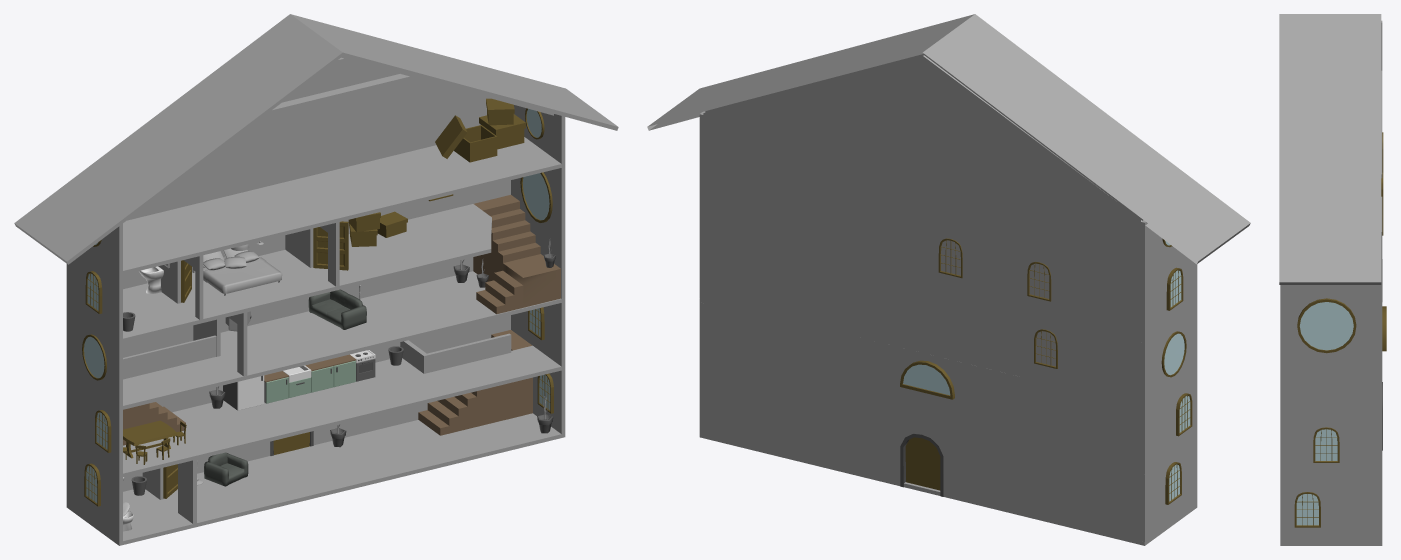
The model's file is House.fbx.
3 renders of one model, left to right at view 1: azimuth 30°, elevation 25°; view 2: azimuth 150°, elevation 25°; view 3: azimuth 270°, elevation 25°, orthographic. The views are drawn at different scales.
Visible parts, largest first — view 1: Roof3, BackWall, Floor4, GroundFloor, Floor1, Floor2, Floor3, LeftWall, RightWall, polySurface2, Stairs3, KitchenCabinets (+17 smaller); view 2: BackWall, Roof3, LeftWall, RightWall, Door, Round_Window4, GroundFloor, Round_Window1; view 3: Roof3, RightWall, Round_Window, Window9, Window8, GroundFloor, Floor4, Round_Window4.
Boxes of the visible parts, x1,y1,x2,y2 form: Roof3: (14,14,618,264); BackWall: (123,64,510,491); Floor4: (119,137,565,275); GroundFloor: (66,413,565,545); Floor1: (119,333,565,478); Floor2: (119,271,565,410); Floor3: (119,204,491,343); LeftWall: (66,223,122,543); RightWall: (511,105,565,434); polySurface2: (473,195,560,307); Stairs3: (418,330,532,435); KitchenCabinets: (264,350,375,403); BackWall: (703,54,1142,542); Roof3: (647,14,1250,264); LeftWall: (1141,220,1197,543); RightWall: (699,111,705,434); Door: (905,437,940,490); Round_Window4: (900,360,954,399); GroundFloor: (699,433,1197,545); Round_Window1: (1161,331,1186,377); Roof3: (1279,14,1381,284); RightWall: (1280,230,1382,543); Round_Window: (1297,298,1356,353); Window9: (1294,492,1320,527); Window8: (1313,427,1339,462); GroundFloor: (1280,542,1382,545); Floor4: (1381,70,1382,230); Round_Window4: (1382,306,1386,351).
Size of the model in its own units: 29.95 by 22.79 by 5.21.
